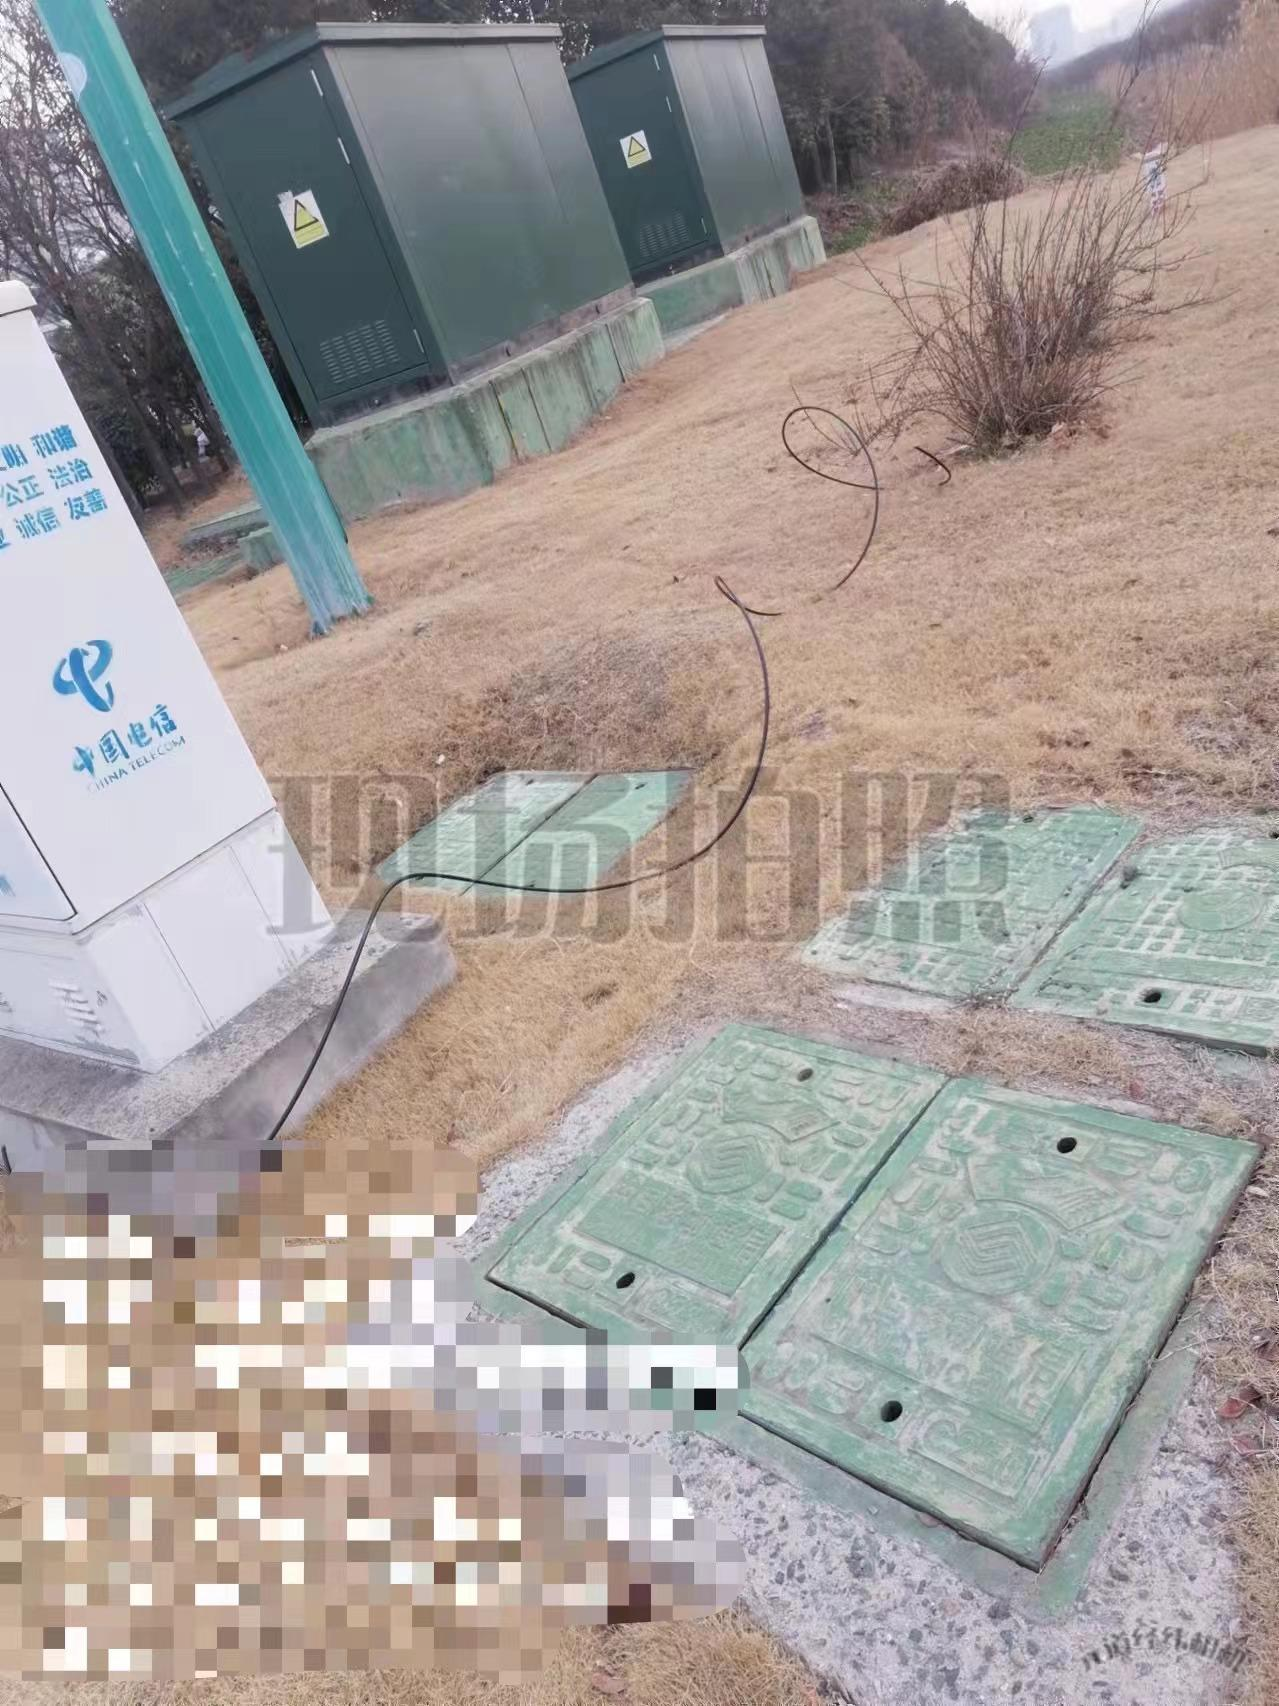wellcover: (528, 1007, 1268, 1585), (807, 787, 1279, 1080), (368, 744, 711, 923)
